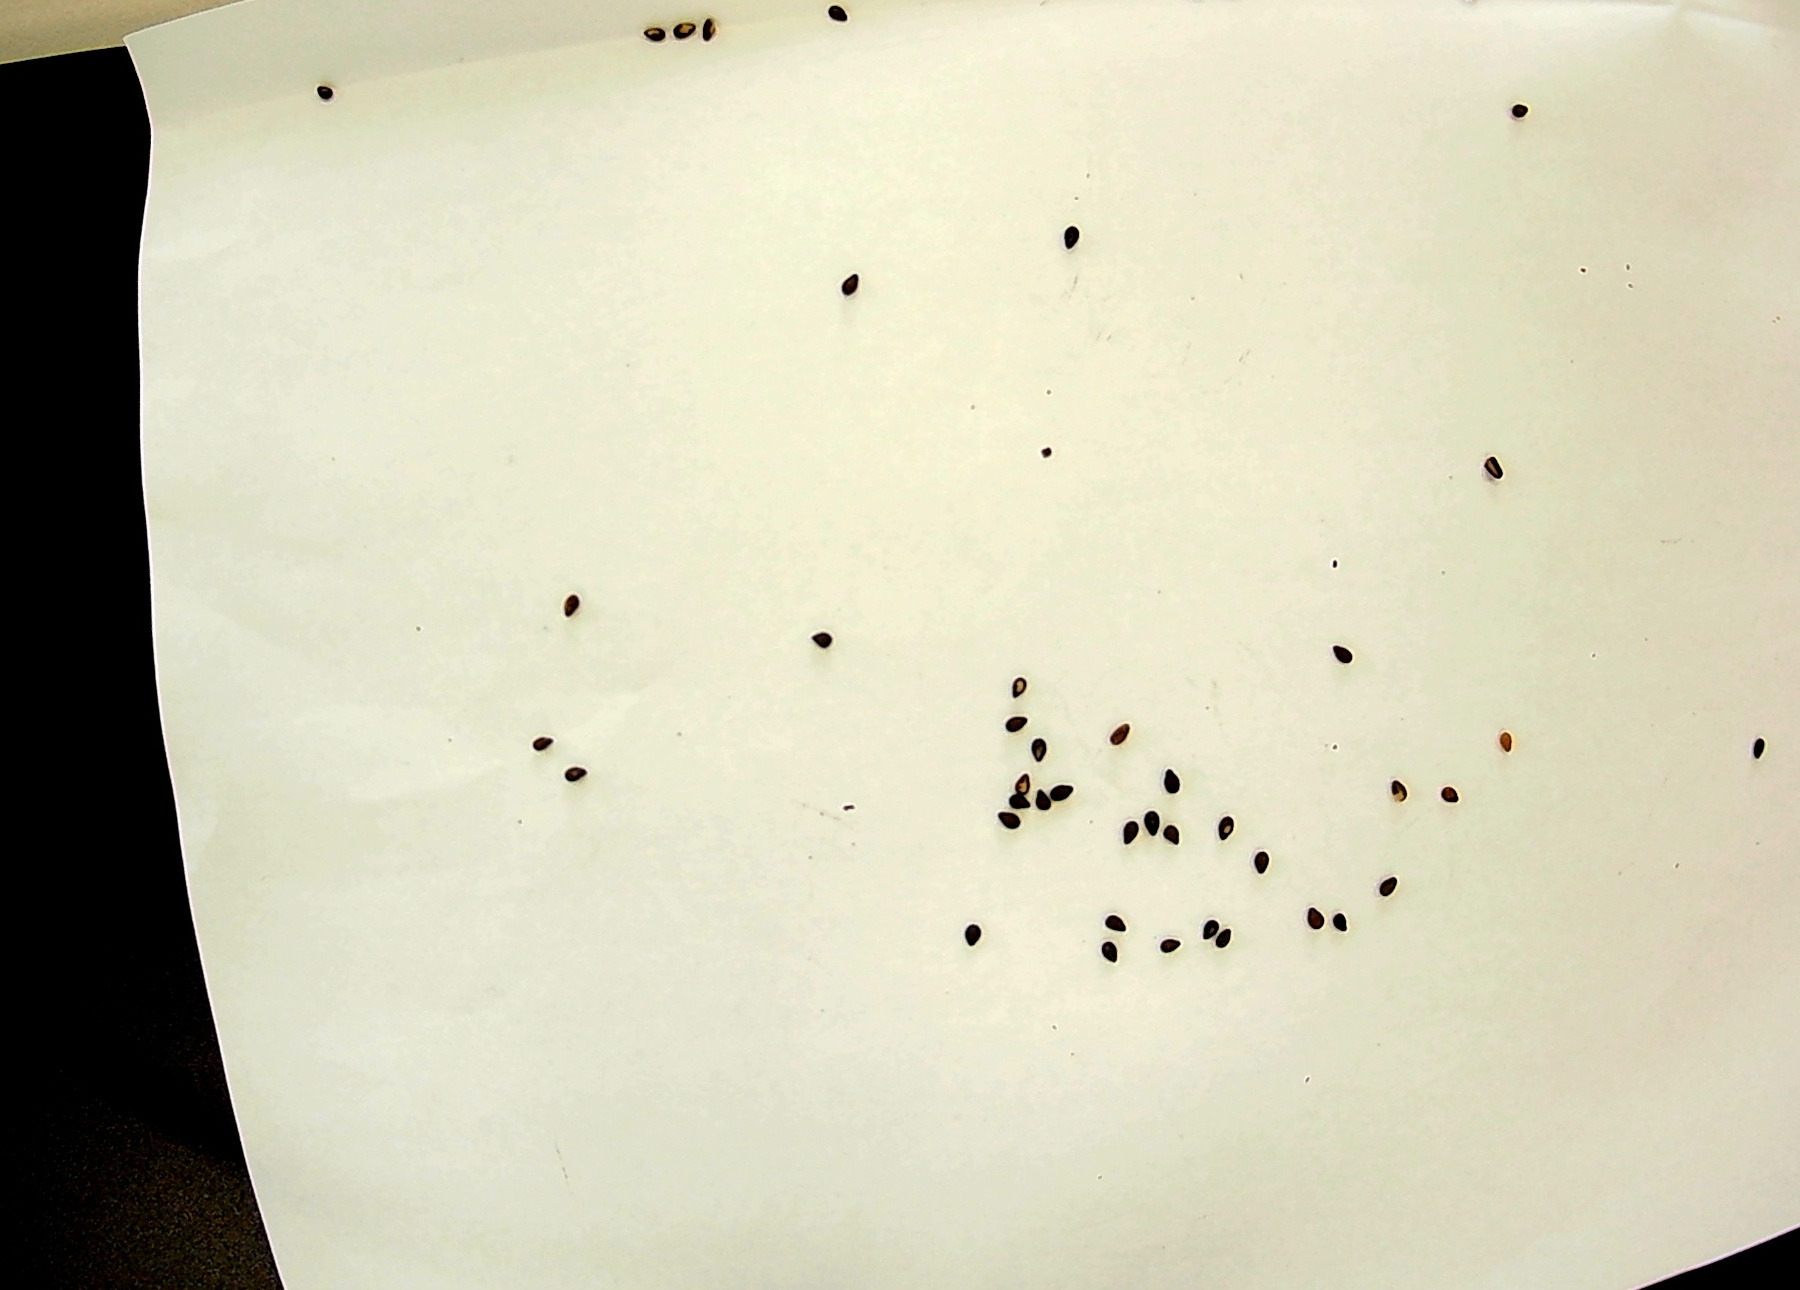sesami: (996, 711, 1045, 744), (1012, 732, 1060, 764), (1047, 779, 1084, 818), (1104, 811, 1141, 850), (1136, 800, 1173, 839), (1162, 818, 1200, 857), (1090, 942, 1127, 981), (984, 815, 1021, 854), (1182, 898, 1220, 935), (1213, 926, 1250, 963), (1144, 931, 1180, 970), (1102, 899, 1139, 938), (950, 912, 987, 951), (1005, 754, 1041, 793), (999, 790, 1035, 829), (1028, 787, 1065, 826), (317, 77, 352, 114), (834, 265, 868, 304), (1044, 209, 1077, 249), (1479, 447, 1513, 486), (1499, 94, 1532, 133), (1747, 727, 1780, 766), (1441, 779, 1471, 822), (1328, 907, 1358, 951), (1295, 898, 1324, 941), (1211, 808, 1240, 852), (1153, 755, 1182, 799), (1105, 718, 1134, 761), (561, 750, 590, 793), (555, 579, 585, 623), (695, 14, 728, 52), (668, 18, 702, 56), (632, 21, 666, 59), (1326, 634, 1358, 673), (1487, 727, 1520, 766), (801, 618, 830, 660), (525, 725, 554, 766), (819, 1, 853, 38), (1379, 771, 1407, 814), (1379, 871, 1407, 914), (1247, 849, 1275, 892), (1005, 672, 1033, 715)
